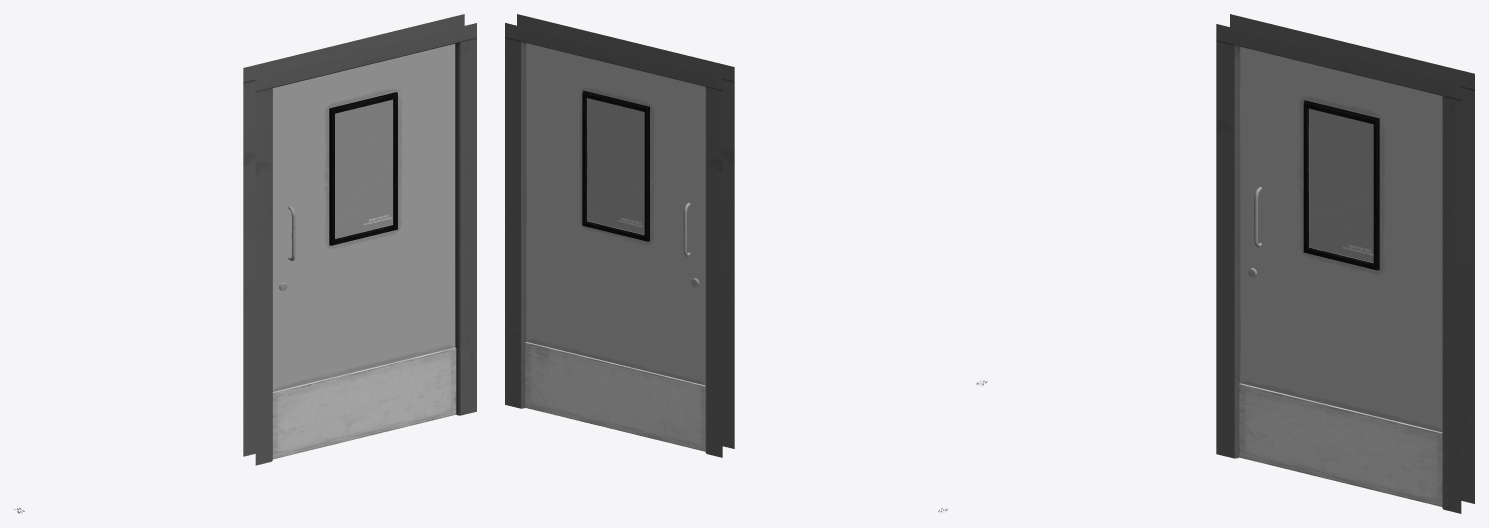
The model's file is fence.fbx.
3 views of the same model, side by side, from view 1: azimuth 30°, elevation 25°; view 2: azimuth 150°, elevation 25°; view 3: azimuth 330°, elevation 25° (orthographic). The views are drawn at different scales.
Visible parts, largest first — view 1: Door_Low, Frame_Low, Glass_Low; view 2: Door_Low, Frame_Low, Glass_Low; view 3: Door_Low, Frame_Low, Glass_Low.
Part boxes in pixels (x1=…): Door_Low: x1=272, y1=44, x2=456, y2=459; Frame_Low: x1=243, y1=14, x2=476, y2=465; Glass_Low: x1=335, y1=99, x2=392, y2=238; Door_Low: x1=525, y1=43, x2=705, y2=451; Frame_Low: x1=505, y1=14, x2=734, y2=457; Glass_Low: x1=587, y1=98, x2=644, y2=234; Door_Low: x1=1239, y1=47, x2=1442, y2=506; Frame_Low: x1=1216, y1=14, x2=1474, y2=513; Glass_Low: x1=1309, y1=108, x2=1373, y2=262.
Size of the model in its own units: 24620 by 20400 by 1566.
